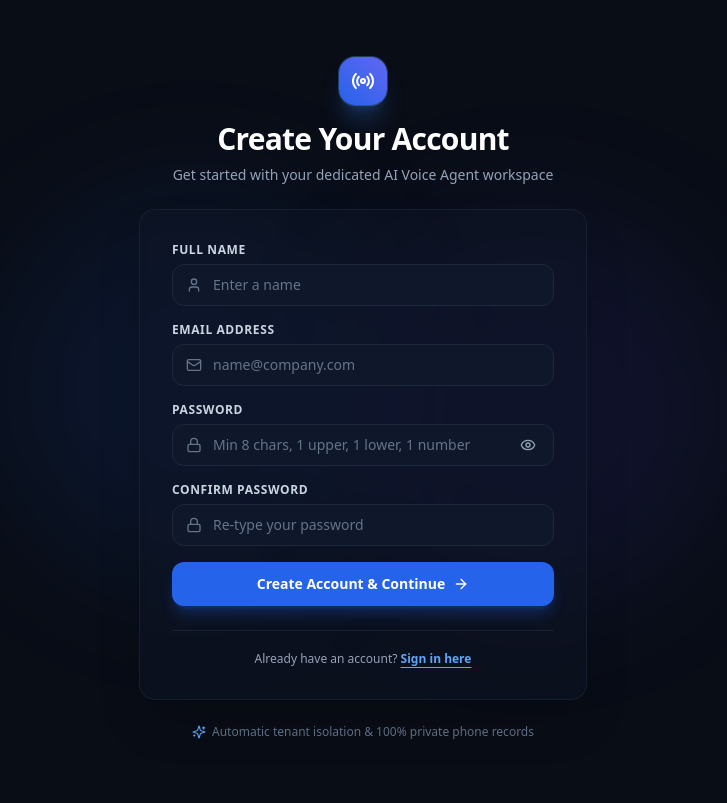
Test: Authentication Pages (Login & Register) › validates mismatched passwords on Register page
In the field with placeholder "Enter a name": (363, 284) [172,264,554,306], type "Alex Mercer"
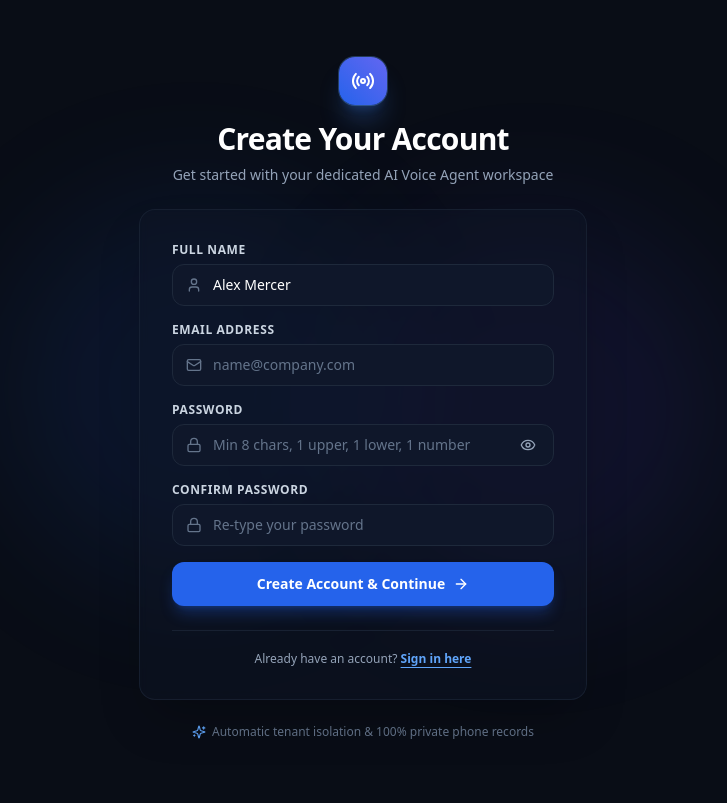
In the field with placeholder "name@company.com": (363, 364) [172,344,554,386], type "alex@example.com"
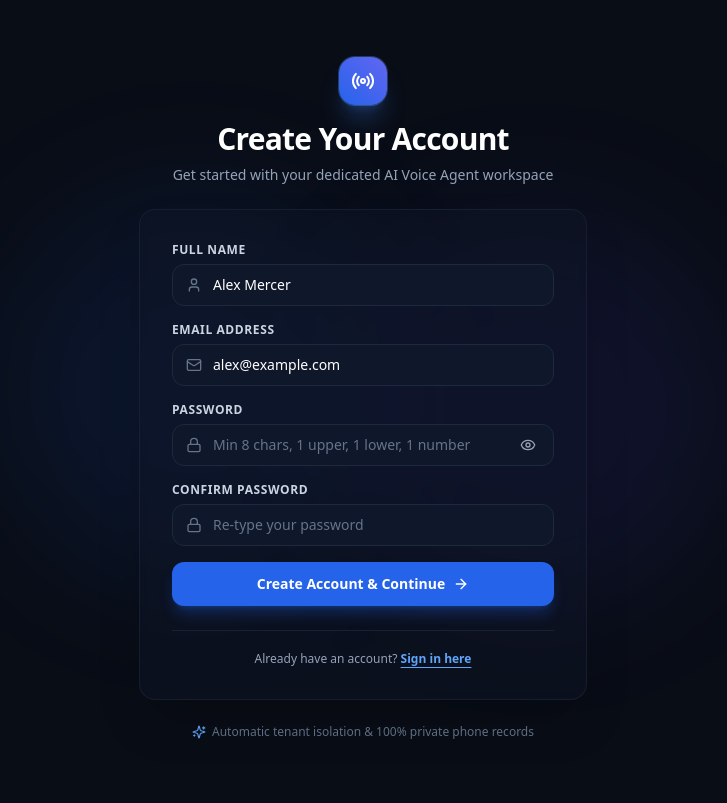
In the password field with placeholder "Min 8 chars, 1 upper, 1 lower, 1 number": (363, 444) [172,424,554,466], type "Secret123!"
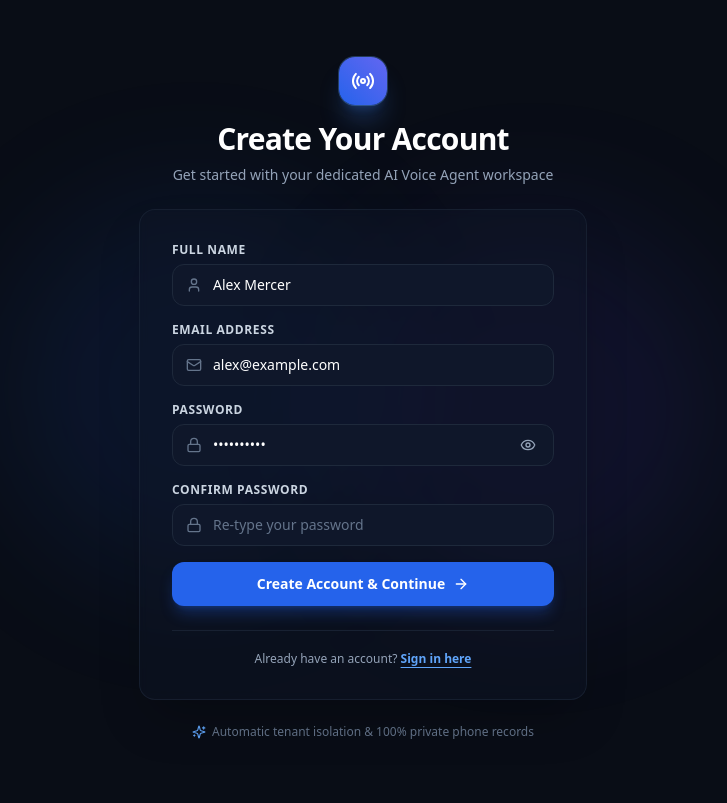
In the password field with placeholder "Re-type your password": (363, 524) [172,504,554,546], type "Mismatch999!"
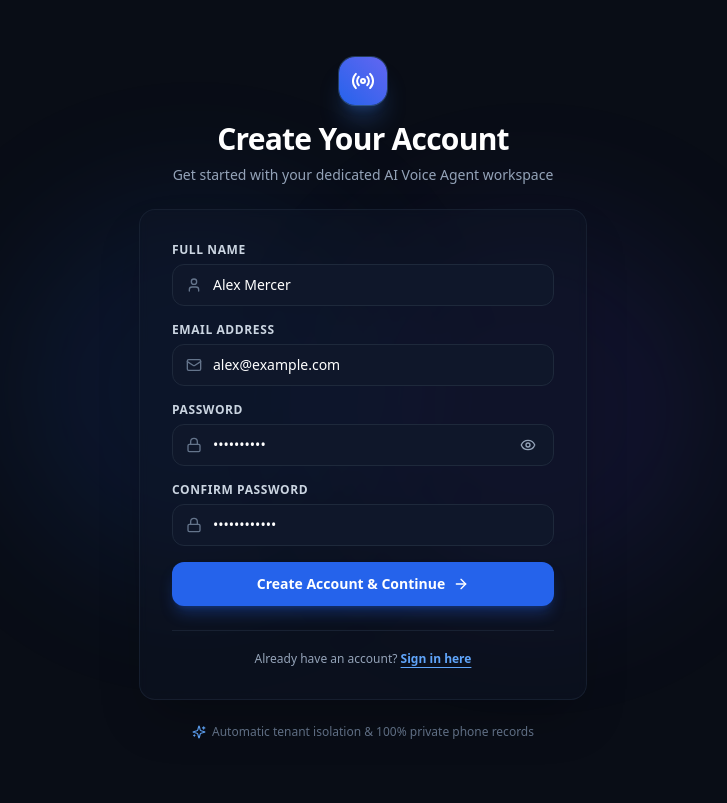
Click the button "Create Account & Continue": (363, 584) [172,562,554,606]
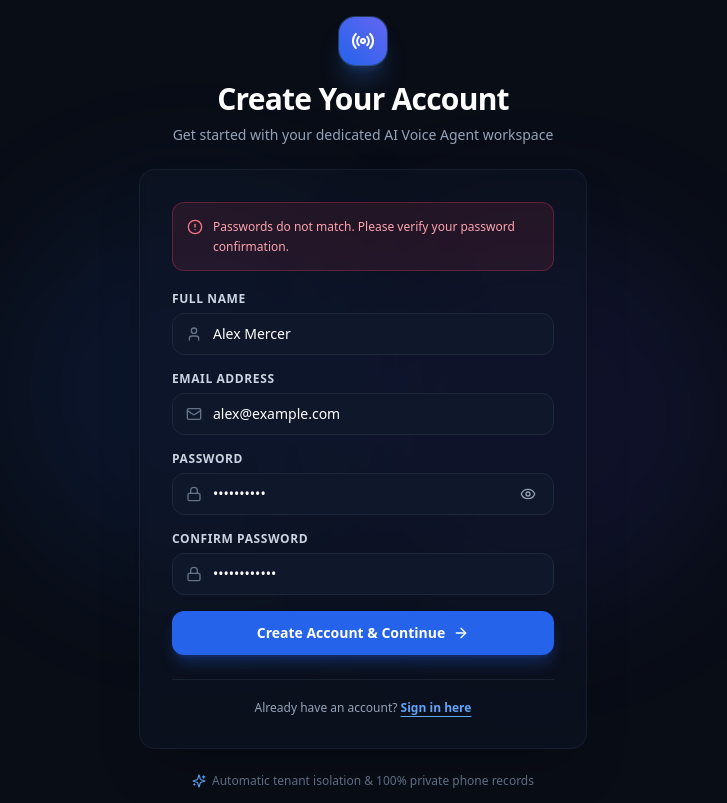
Result: the text "Passwords do not match" is shown at [213,218,515,254]
